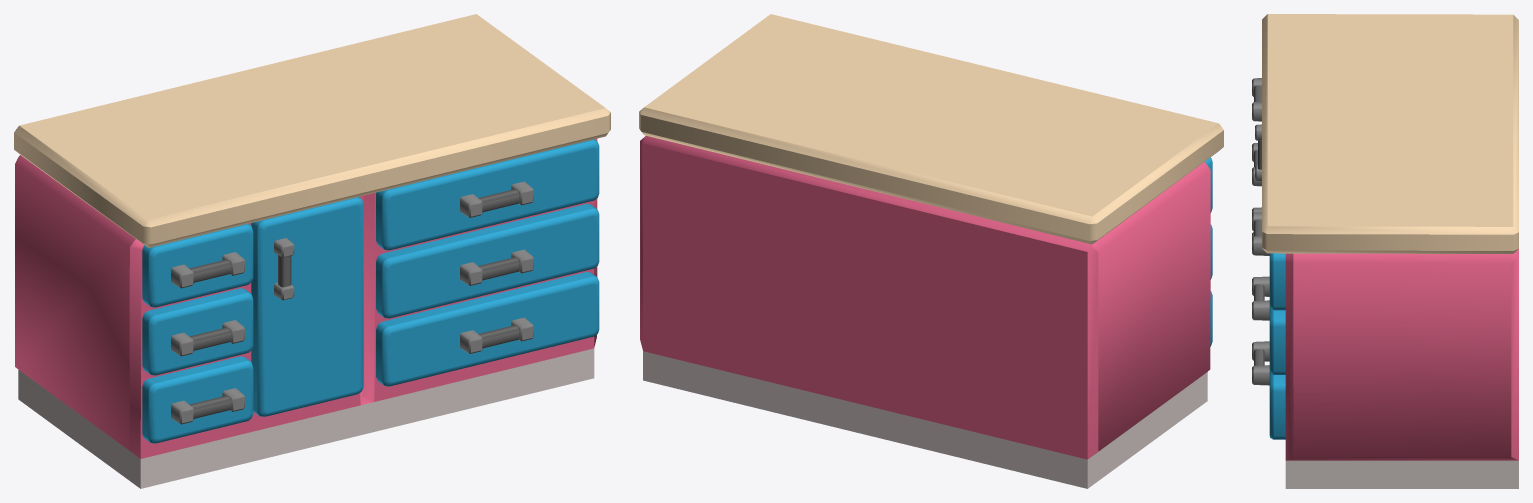
Rendered from Furnit_A_5_A.glb.
3 views of the same model, side by side, from view 1: azimuth 30°, elevation 25°; view 2: azimuth 150°, elevation 25°; view 3: azimuth 270°, elevation 25° (orthographic). The views are drawn at different scales.
Parts seen in each view (by area): view 1: Furnit_A_5_A; view 2: Furnit_A_5_A; view 3: Furnit_A_5_A.
Part boxes in pixels (x1,y1,x2,y2): Furnit_A_5_A: (14, 14, 610, 488); Furnit_A_5_A: (639, 14, 1223, 488); Furnit_A_5_A: (1252, 14, 1518, 488).
Size of the model in its own units: 1.8 by 1.02 by 0.9348.
Materials: 1 (1 with a texture image).
